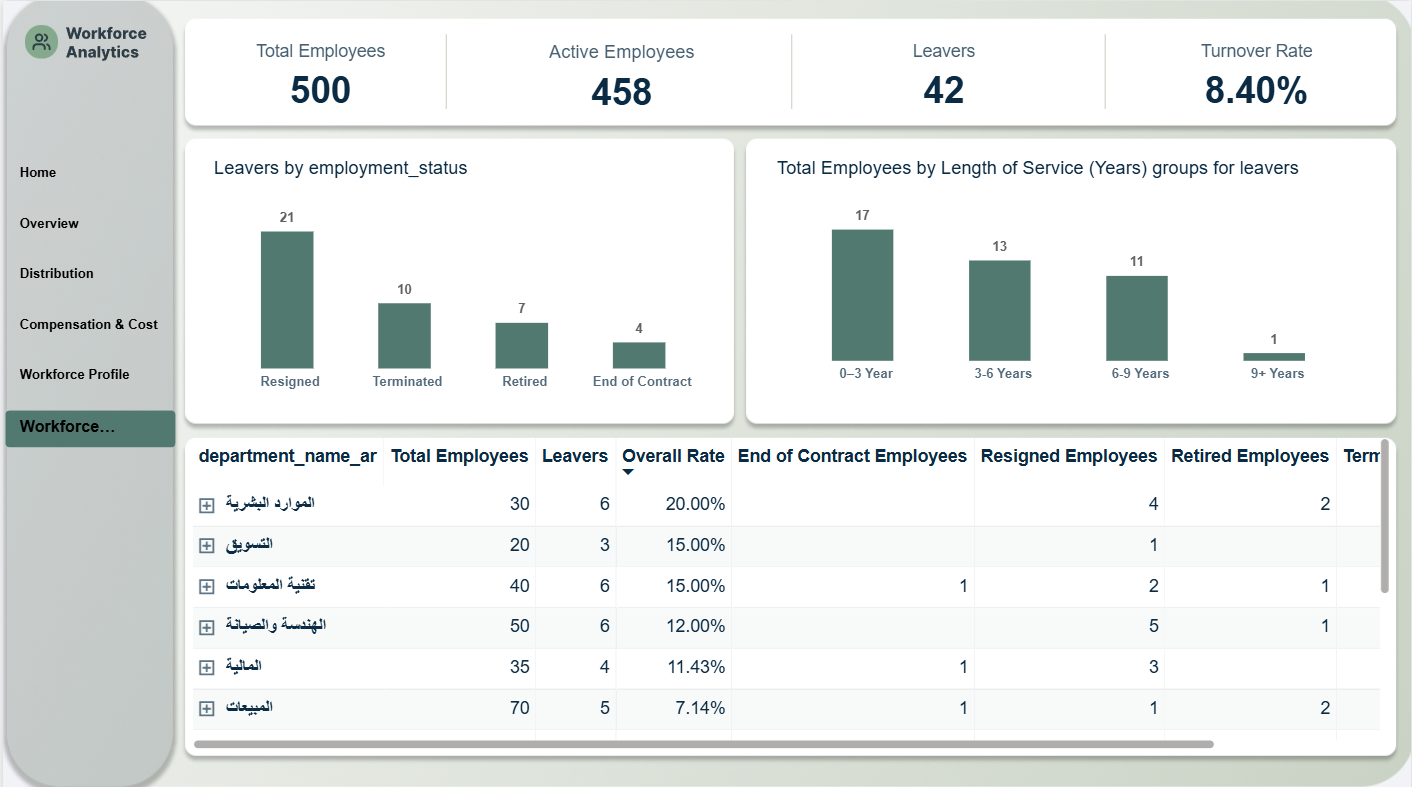

The page's visual inventory and layout, read from the dashboard file:
{"tool":"powerbi","page":{"name":"Workforce Movement ","canvas":[1280,720],"ordinal":5},"visuals":[{"type":"clusteredColumnChart","fields":{"Y":["measures (2).Total Employees"],"Category":["employees.Length of Service (Years) groups"]},"box":[684.1,122.1,576.4,248.3],"z":0},{"type":"cardVisual","fields":{"Data":["measures (2).Total Employees"]},"box":[207.5,9.8,163.2,96.7],"z":1000},{"type":"cardVisual","fields":{"Data":["measures (2).Overall Rate"]},"box":[1057.8,9.8,163.2,96.7],"z":2000},{"type":"cardVisual","fields":{"Data":["measures (2).not active Employees"]},"box":[755.5,9.8,200.2,96.4],"z":3000},{"type":"pivotTable","fields":{"Values":["measures (2).Total Employees","measures (2).not active Employees","measures (2).Overall Rate","measures (2).End of Contract Employees","measures (2).Resigned Employees","measures (2).Retired Employees","measures (2).Terminated Employees"],"Rows":["departments.department_name_ar","employees.job_title_ar"]},"box":[152.4,377.4,1127.6,323.2],"z":4000},{"type":"clusteredColumnChart","fields":{"Y":["measures (2).not active Employees"],"Category":["employees.employment_status"]},"box":[171.7,122.1,498.6,255.3],"z":5000},{"type":"cardVisual","fields":{"Data":["measures (2).Active Employees"]},"box":[473.5,5.3,178.2,106.4],"z":6000},{"type":"image","box":[0,0,197.3,76.4],"z":6001},{"type":"pageNavigator","box":[0,140,159.1,270],"z":6002}]}

Visuals, with their boxes on the page's 1280x720 design canvas (x1, y1, x2, y2). These are canvas units, not pixel positions in the 1412x787 screenshot, which may show the page scaled, cropped or inside an application window:
clusteredColumnChart - measures (2).Total Employees x employees.Length of Service (Years) groups: x1=684 y1=122 x2=1260 y2=370
cardVisual - measures (2).Total Employees: x1=208 y1=10 x2=371 y2=106
cardVisual - measures (2).Overall Rate: x1=1058 y1=10 x2=1221 y2=106
cardVisual - measures (2).not active Employees: x1=756 y1=10 x2=956 y2=106
pivotTable - measures (2).Total Employees x measures (2).not active Employees: x1=152 y1=377 x2=1280 y2=701
clusteredColumnChart - measures (2).not active Employees x employees.employment_status: x1=172 y1=122 x2=670 y2=377
cardVisual - measures (2).Active Employees: x1=474 y1=5 x2=652 y2=112
image: x1=0 y1=0 x2=197 y2=76
pageNavigator: x1=0 y1=140 x2=159 y2=410
